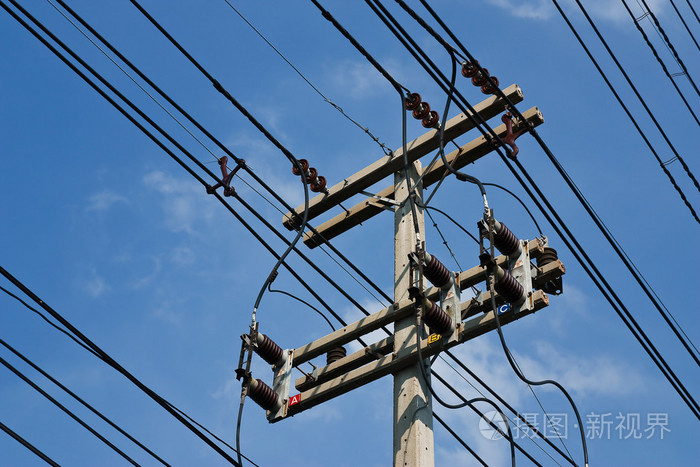insulator: (463, 59, 505, 92), (403, 94, 441, 127), (290, 157, 329, 189)
